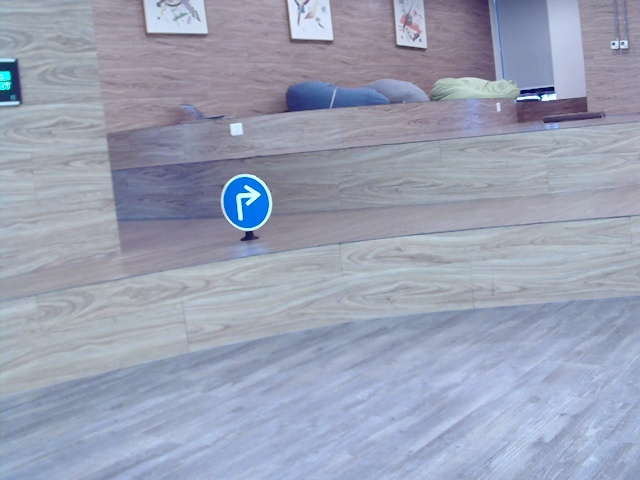turn_right: (230, 182, 258, 219)
